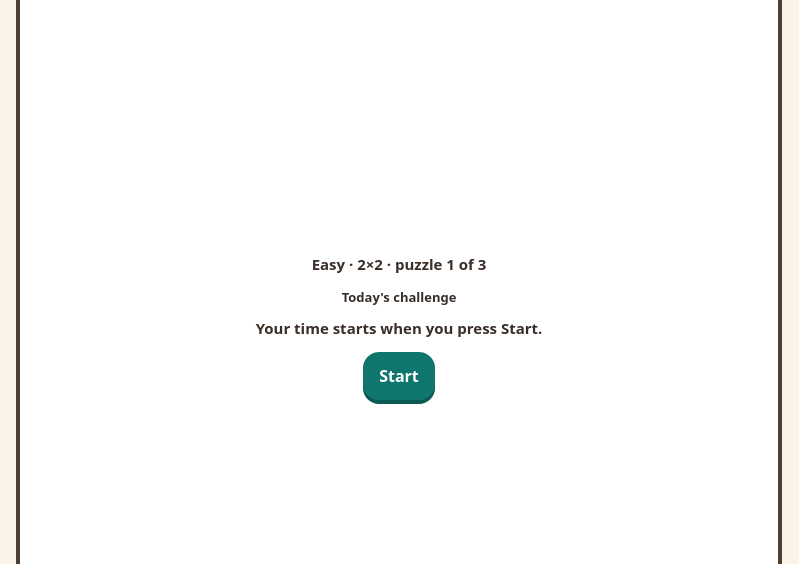
Test: the finish (rules 15-16) › but not when the player had already moved on from Try again
Click the button "Start" at {"x": 399, "y": 376}, box [363,352,435,400]
(page scrolled)
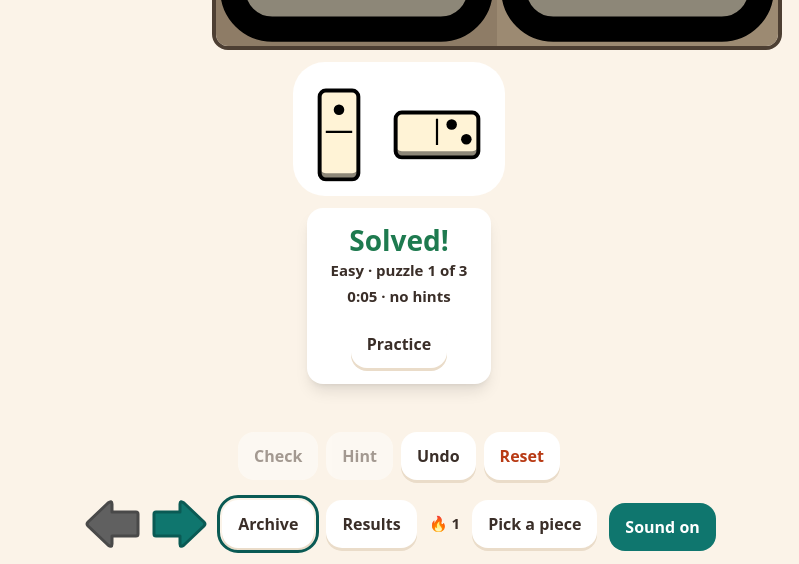
Result: the button "Practice" is shown at [351,320,447,368]
